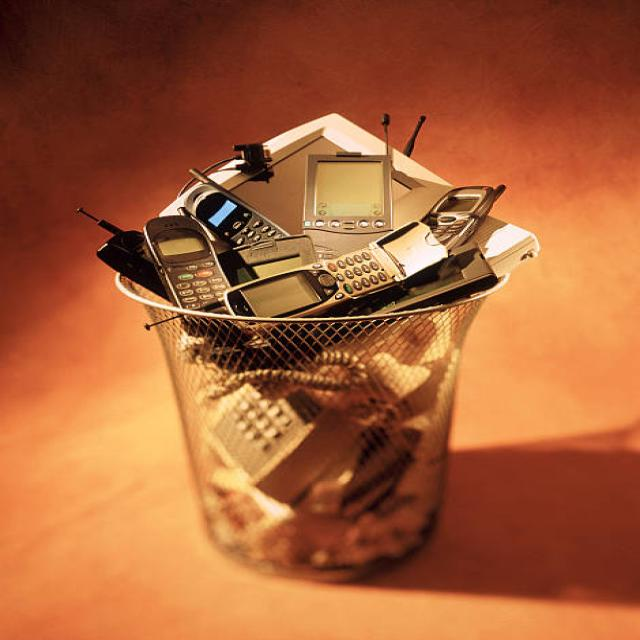metal: (43, 117, 530, 330), (160, 329, 494, 572)
